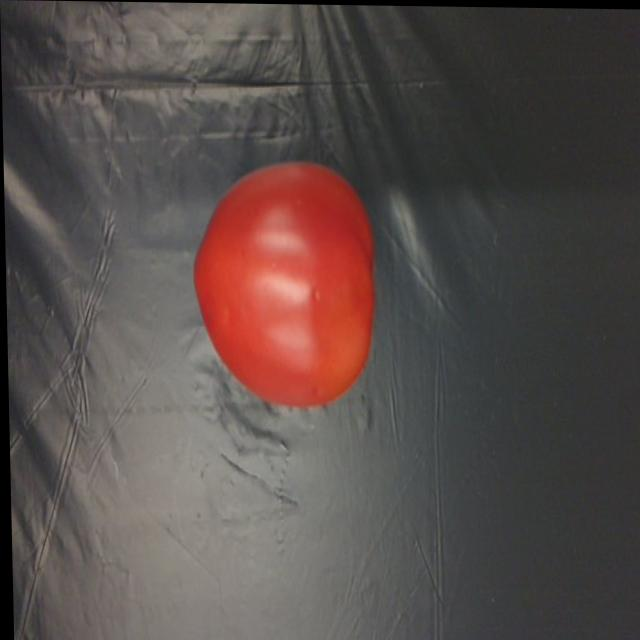kirmizi: (193, 156, 393, 431)
